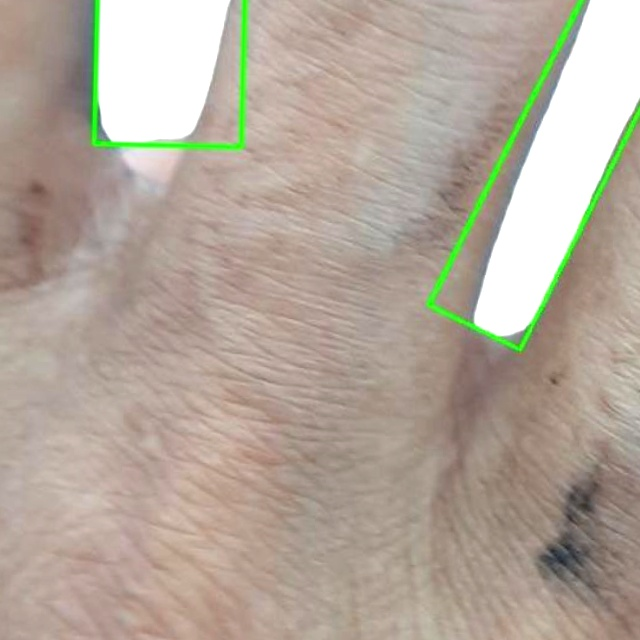Scabies: (429, 0, 639, 350), (94, 0, 244, 147)
